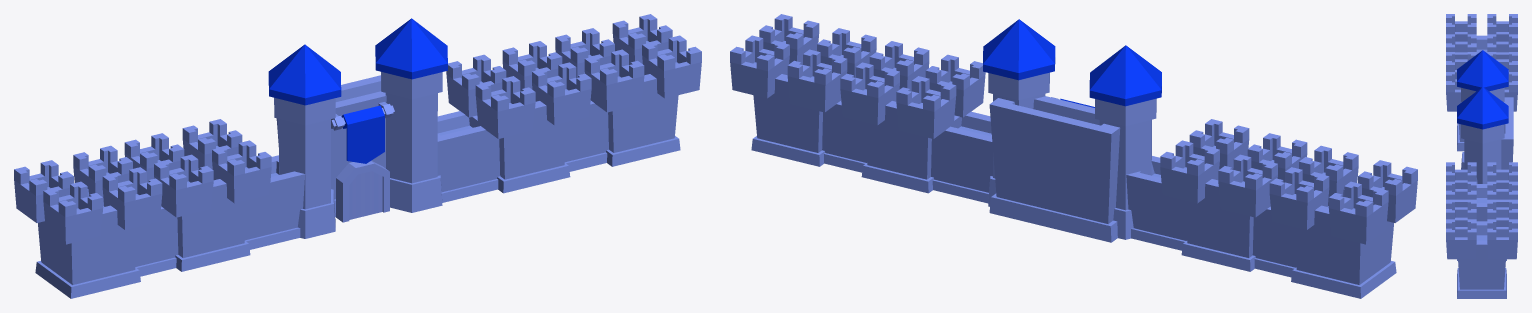
File: Castle.fbx
3 views of the same model, side by side, from view 1: azimuth 30°, elevation 25°; view 2: azimuth 150°, elevation 25°; view 3: azimuth 270°, elevation 25° (orthographic). The views are drawn at different scales.
Visible parts, largest first — view 1: Castle_LSide (×2), Castle_RSide (×2), Castle_Tutorial; view 2: Castle_LSide (×2), Castle_RSide (×2), Castle_Tutorial; view 3: Castle_RSide (×2), Castle_Tutorial, Castle_LSide (×2).
Part boxes in pixels (left/top/right/bottom): Castle_LSide (×2): left=14, top=119, right=305, bottom=298; Castle_RSide (×2): left=437, top=14, right=701, bottom=202; Castle_Tutorial: left=268, top=18, right=447, bottom=238; Castle_LSide (×2): left=1126, top=119, right=1417, bottom=298; Castle_RSide (×2): left=730, top=14, right=992, bottom=203; Castle_Tutorial: left=983, top=19, right=1161, bottom=242; Castle_RSide (×2): left=1446, top=162, right=1517, bottom=298; Castle_Tutorial: left=1457, top=50, right=1513, bottom=183; Castle_LSide (×2): left=1446, top=14, right=1517, bottom=151.
Bounding box in the file's own units: 3340 × 901 × 465.
